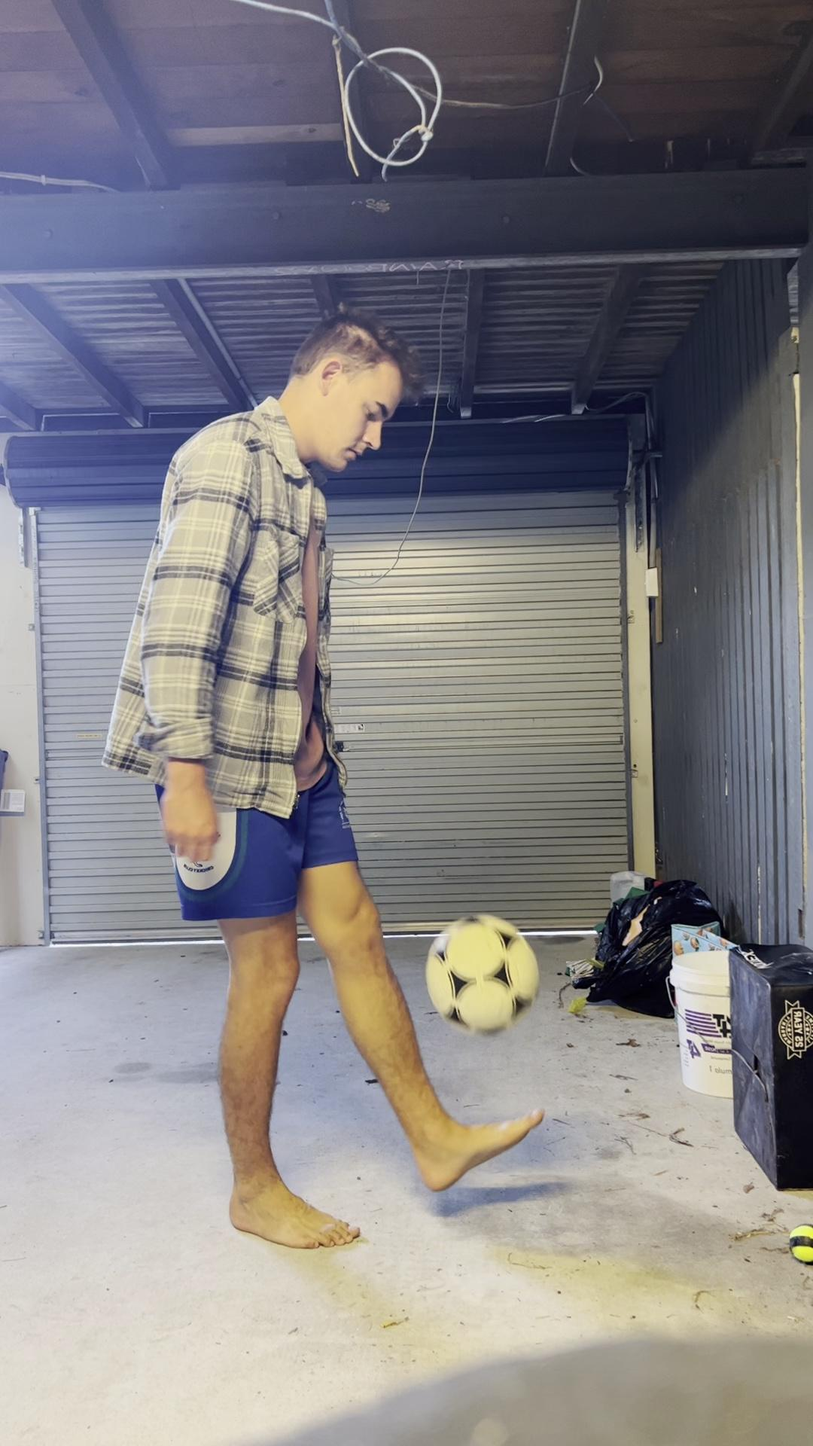ball: (426, 909, 542, 1039)
foot: (403, 1104, 541, 1199), (228, 1167, 365, 1251)
person: (105, 315, 539, 1250)
